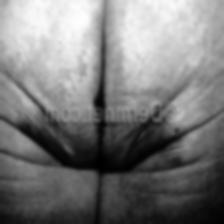Non-Cancerous Skin Condition: (0, 10, 212, 96), (5, 130, 186, 220)
